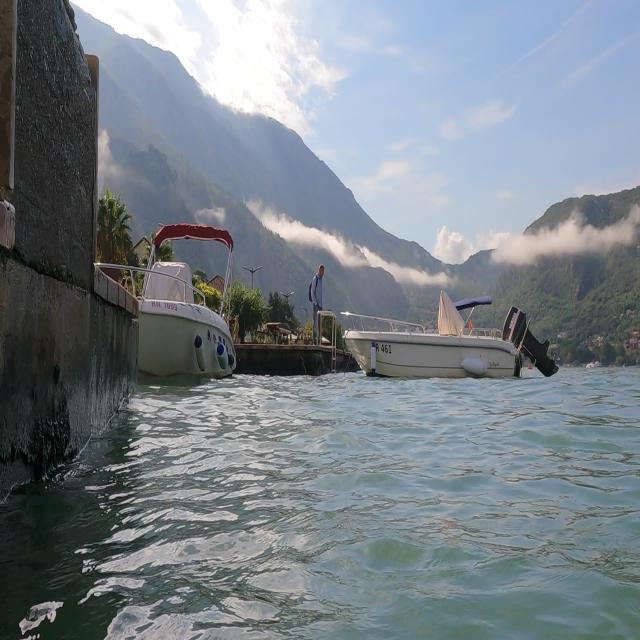boat: (123, 205, 256, 396), (339, 287, 559, 384)
